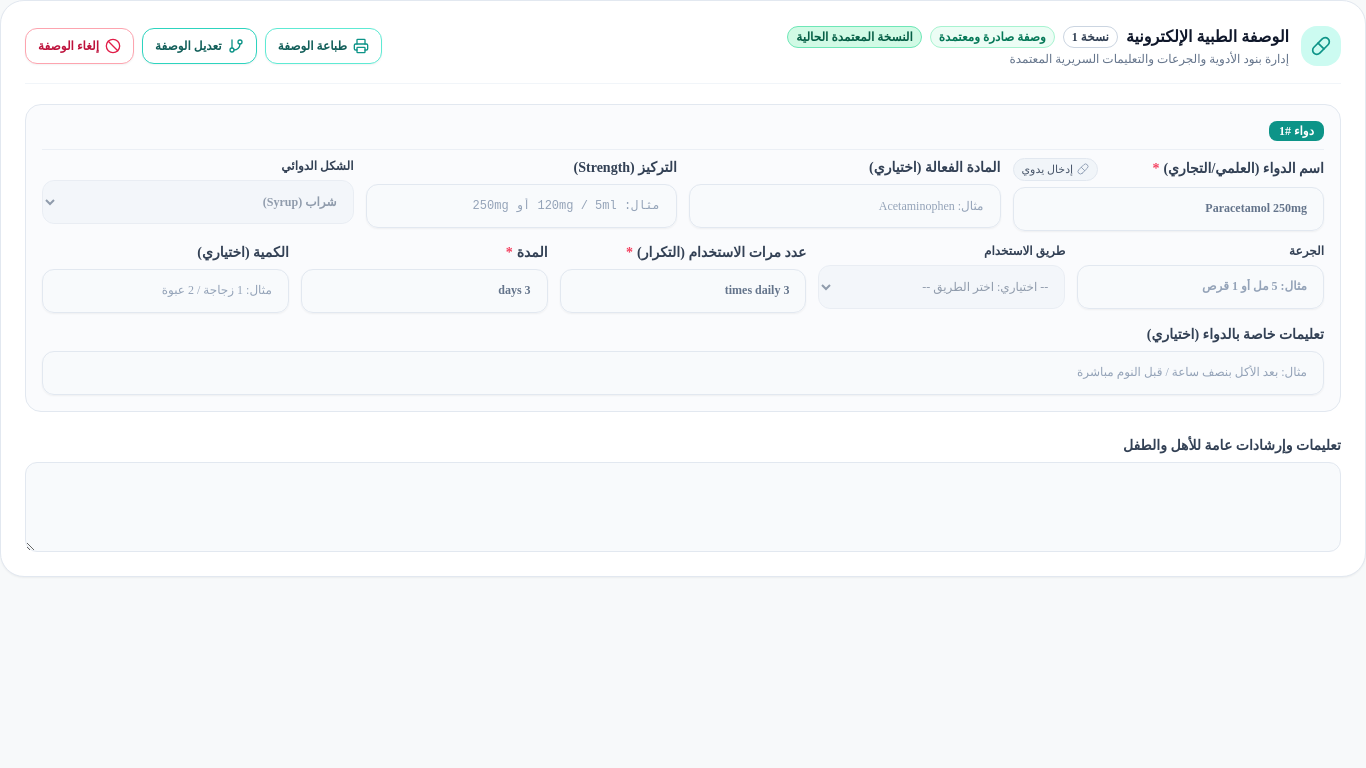
Test: Prescription Revision & Amendment Workflow (نظام مراجعة وتعديل الوصفات الصادرة) › 4. Doctor Workstation UI (ElectronicPrescriptionSection) › clicking "تعديل الوصفة" opens revision modal requiring reason >= 3 chars
Note: Click "تعديل الوصفة"
Click the button with test id "edit-prescription-btn" at coordinates (199, 46), box [142, 28, 257, 64]
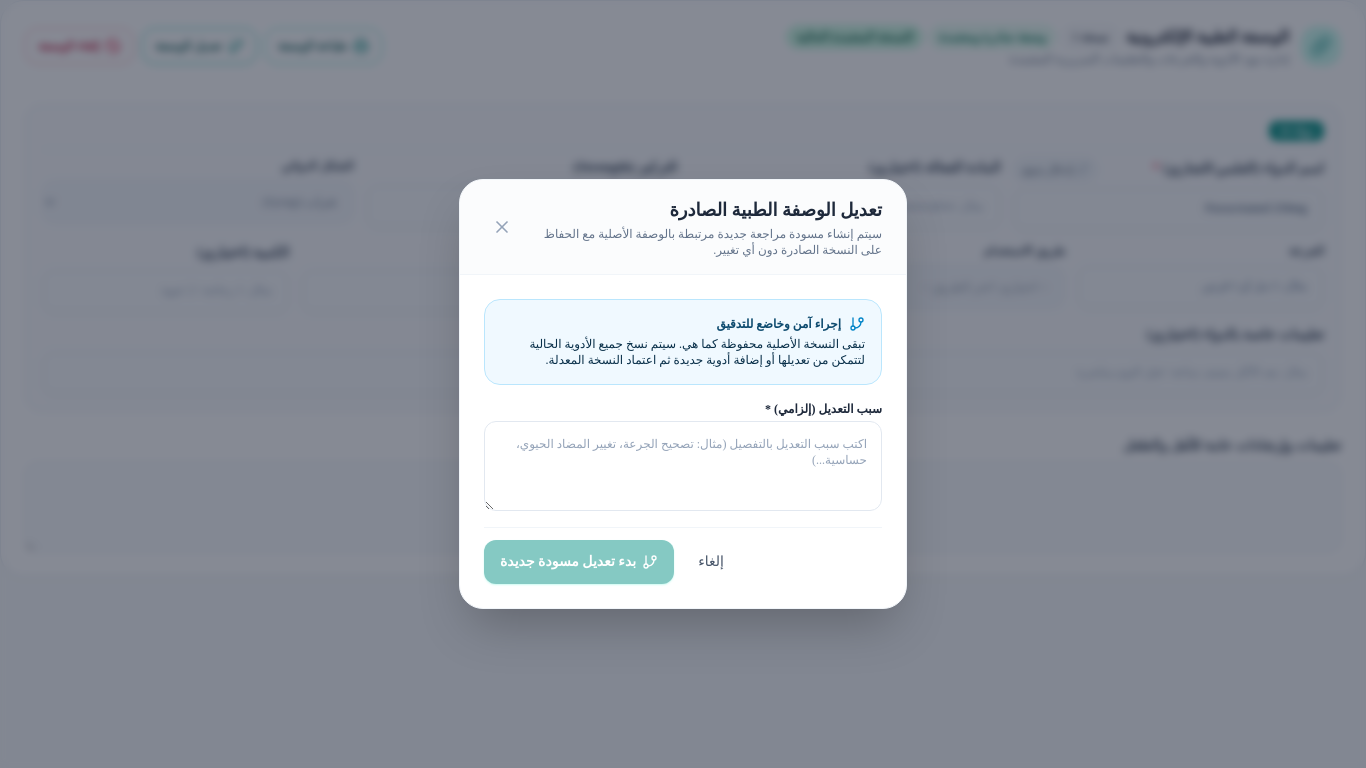
Expected: the heading "تعديل الوصفة الطبية الصادرة" is shown, [669, 200, 882, 220]
Expected: the text "سيتم إنشاء مسودة مراجعة جديدة" is shown, [544, 227, 882, 257]
Expected: the button with test id "confirm-create-revision-btn" is disabled, [484, 540, 674, 584]
Replace the text in the text box with test id "revision-reason-input" with "ok" at coordinates (683, 466), box [484, 421, 882, 511]
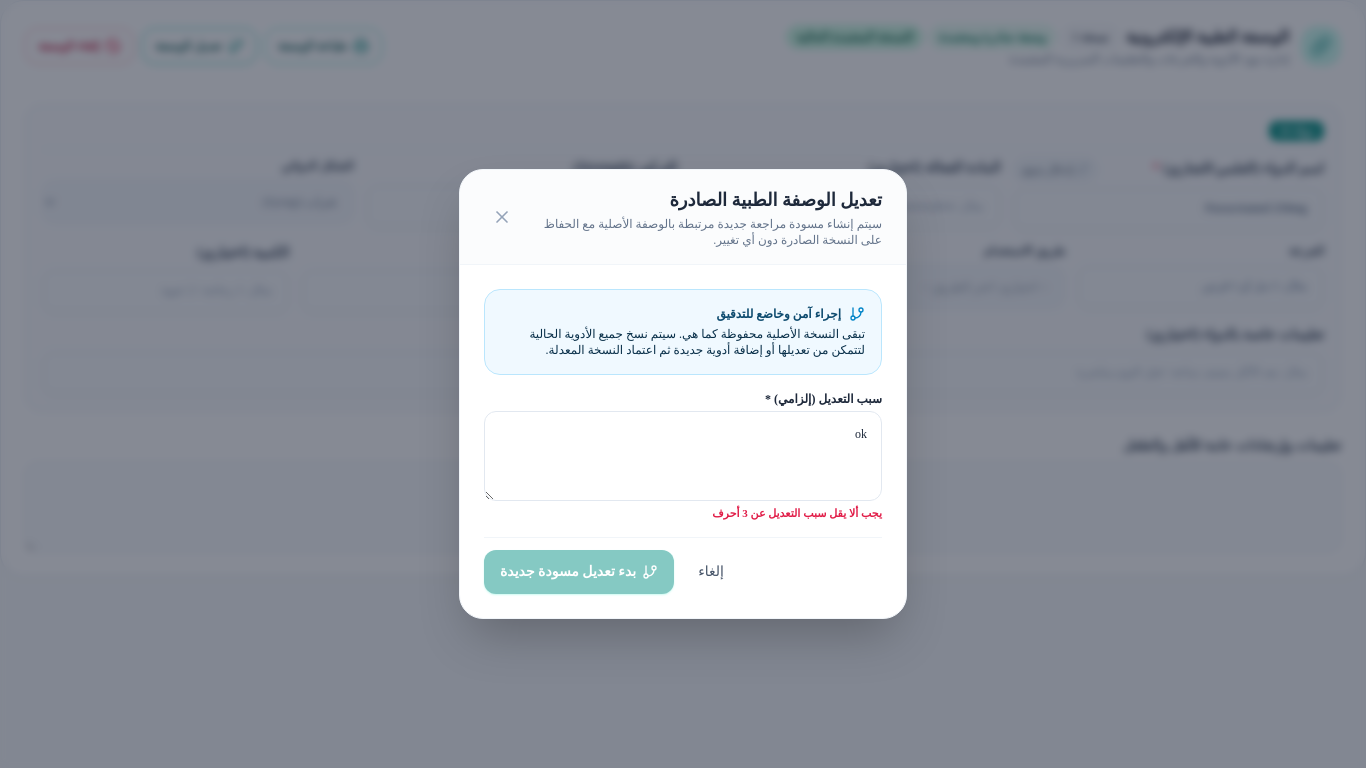
Expected: the button with test id "confirm-create-revision-btn" is disabled, [484, 550, 674, 594]
Note: Type valid reason
Replace the text in the text box with test id "revision-reason-input" with "تعديل جرعة الباراسيتامول لتناسب الوزن الجديد" at coordinates (683, 456), box [484, 411, 882, 501]
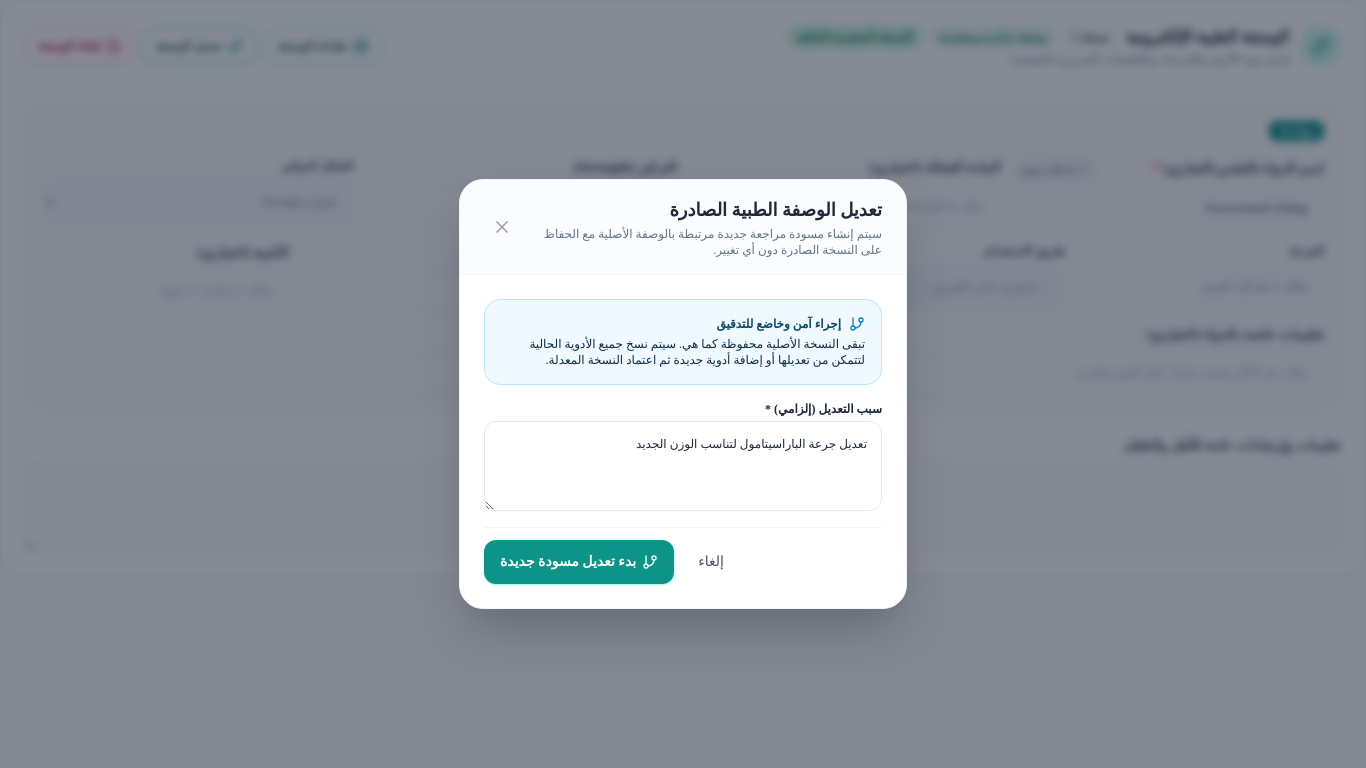
Expected: the button with test id "confirm-create-revision-btn" is enabled
Click the button with test id "confirm-create-revision-btn" at coordinates (579, 562), box [484, 540, 674, 584]
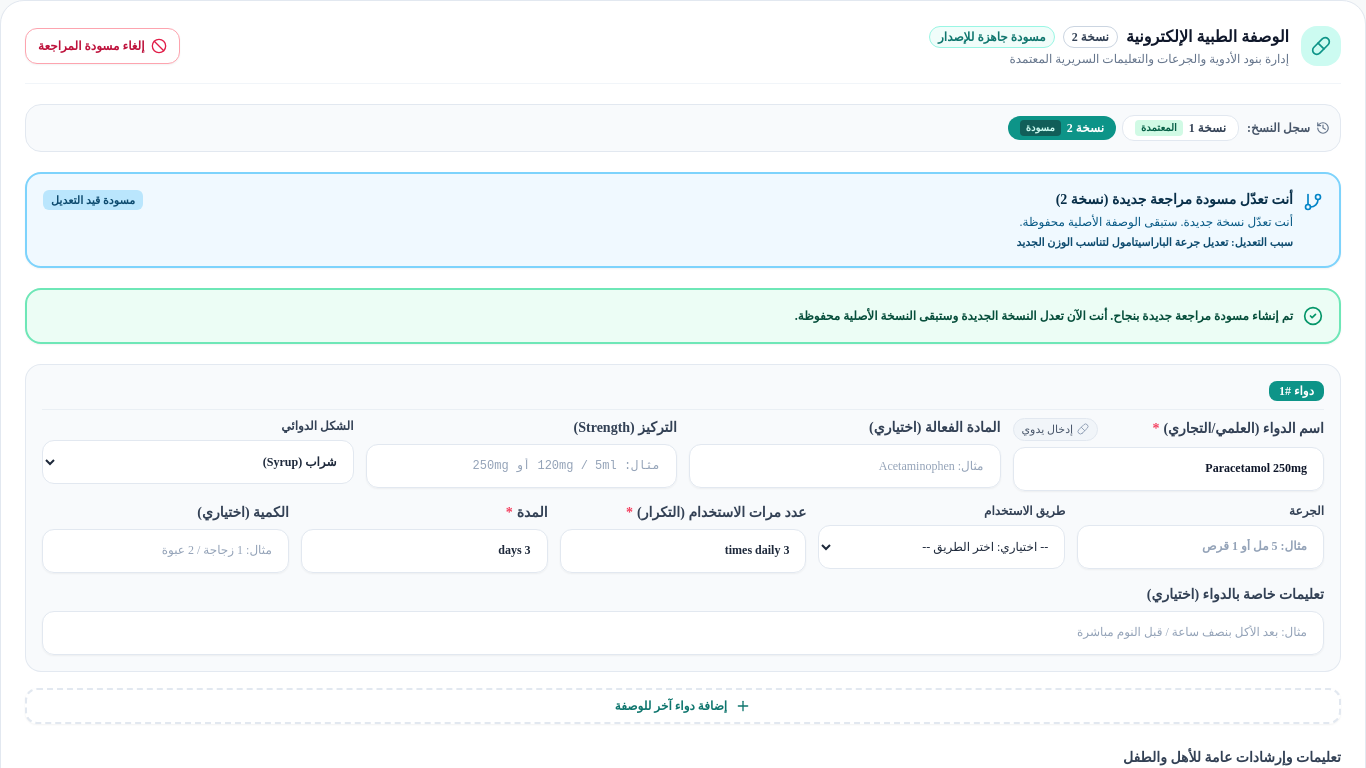
Expected: the element with test id "rx-revision-draft-banner" is shown, [25, 172, 1341, 268]
Expected: the text "أنت تعدّل مسودة مراجعة جديدة (نسخة 2)" is shown, [1056, 190, 1293, 210]
Expected: the text with test id "rx-revision-badge" reads "نسخة 2", [1072, 30, 1109, 44]
